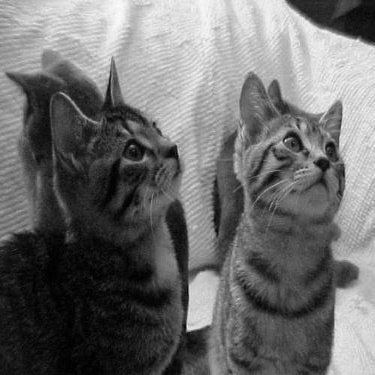cat: (5, 50, 186, 369), (4, 58, 183, 366), (202, 69, 341, 372), (216, 78, 360, 289)
